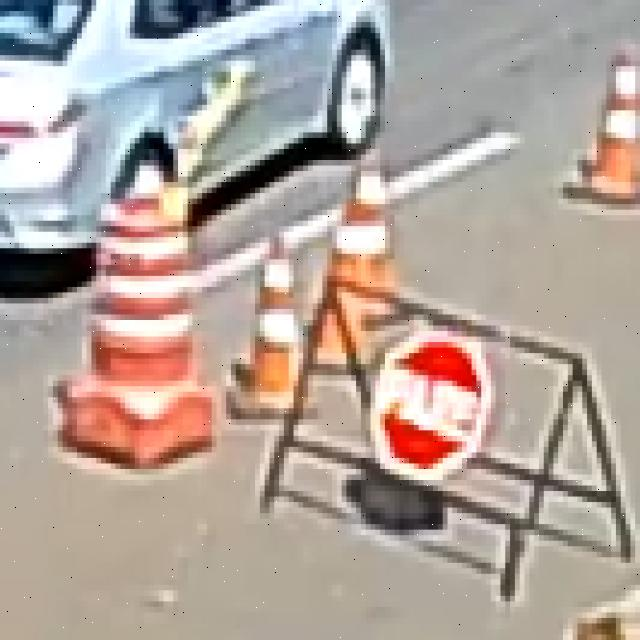big_cone: (53, 132, 217, 480)
small_cone: (327, 154, 399, 353), (226, 254, 303, 419), (563, 44, 635, 210)
stop_sign: (371, 331, 500, 491)
